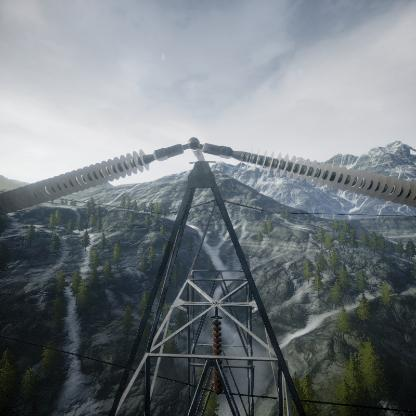insulator: (232, 145, 416, 209), (1, 147, 154, 213), (209, 319, 226, 397)
